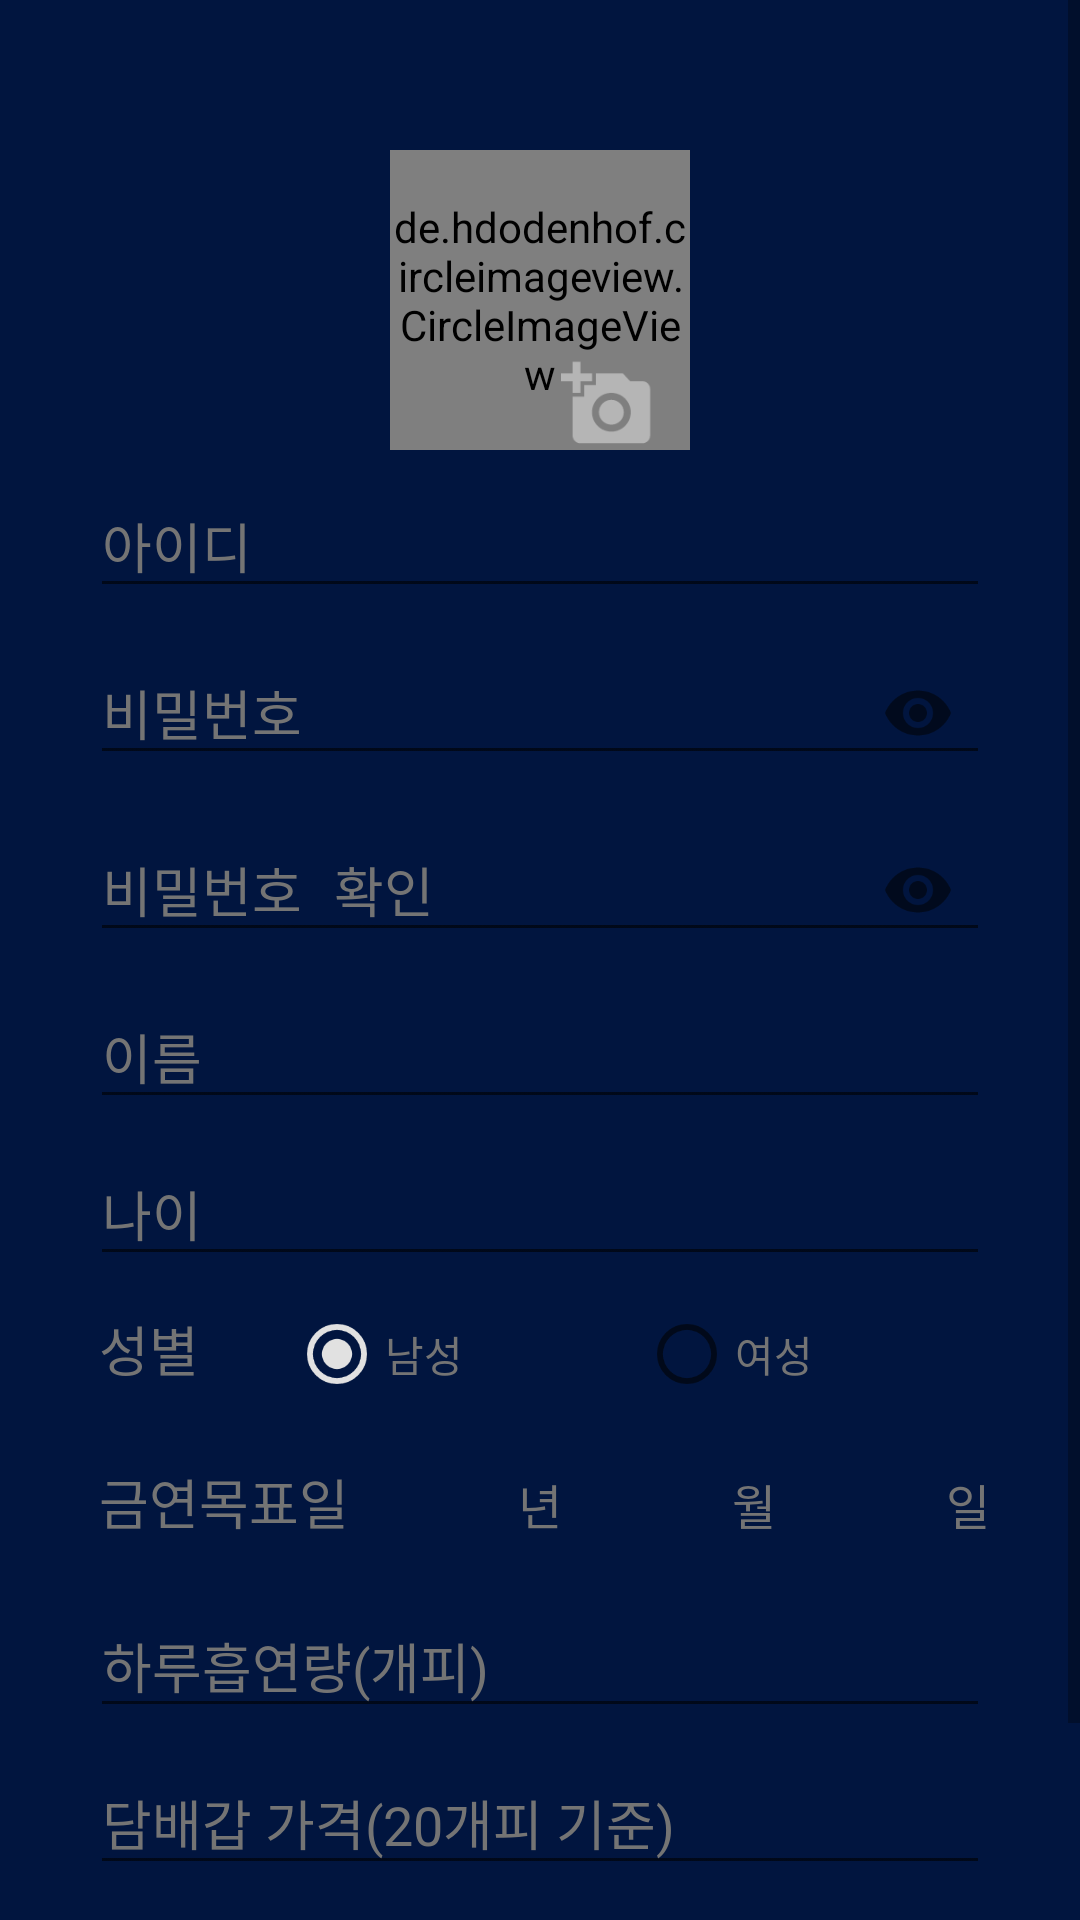

Screen size 1080 x 1920. Icon name, then its center in pixels as [x,y]:
camera: [605,402]
